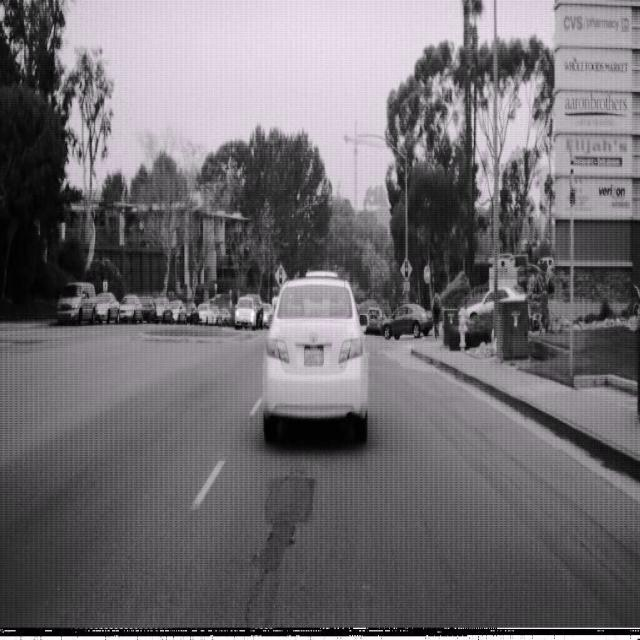stop: (423, 264, 431, 284)
